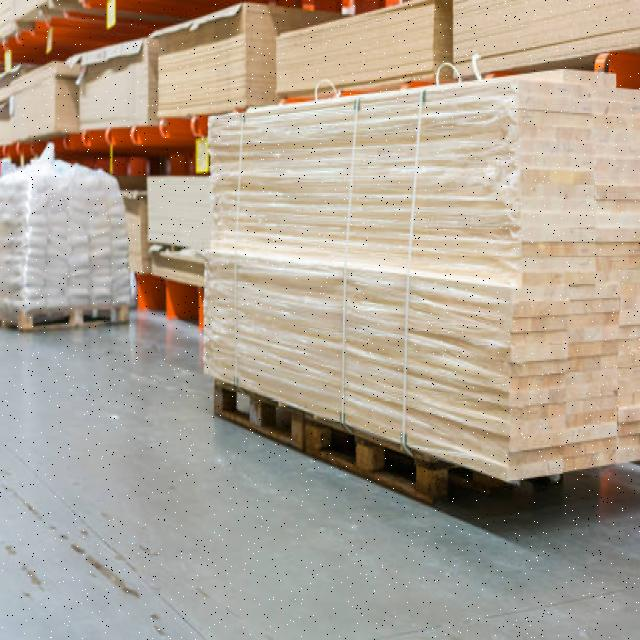Wooden-Pallets: (298, 411, 442, 512), (204, 372, 309, 463)
